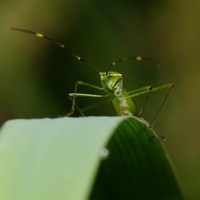insect: (9, 27, 173, 129), (141, 87, 169, 124)
